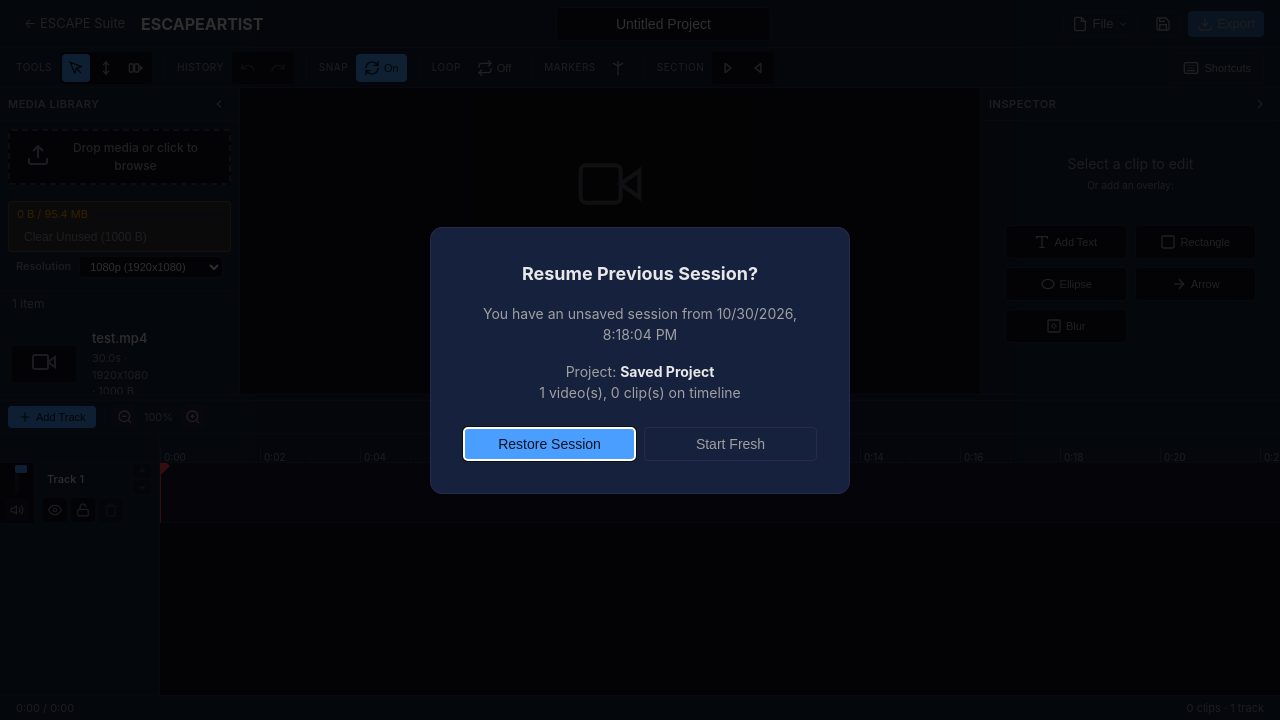
it: App project lifecycle › the session restore prompt › restores the saved session
Expected: the heading "Resume Previous Session?" is shown, [522,262,758,284]
Step 1. Click the button "Restore Session" → [550, 444], box [463,426,636,460]
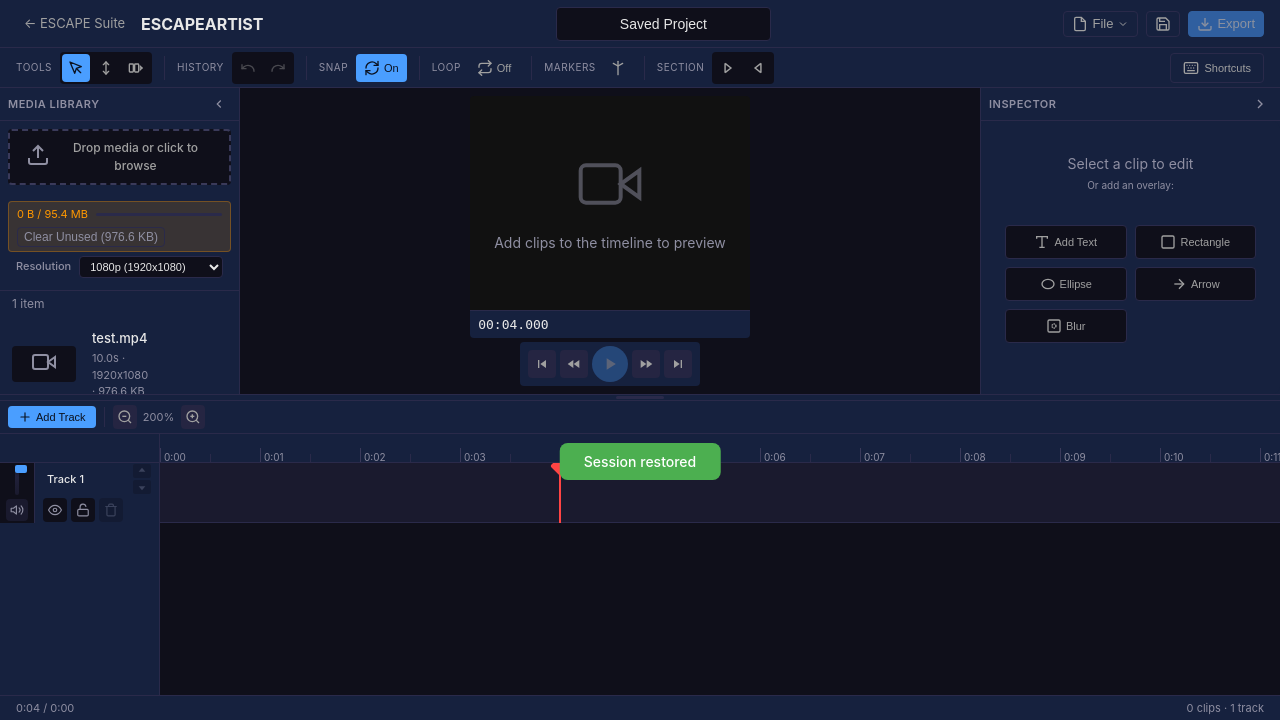
Expected: the message reads "Session restored", [584,453,696,470]
Expected: the heading "Resume Previous Session?" is gone
